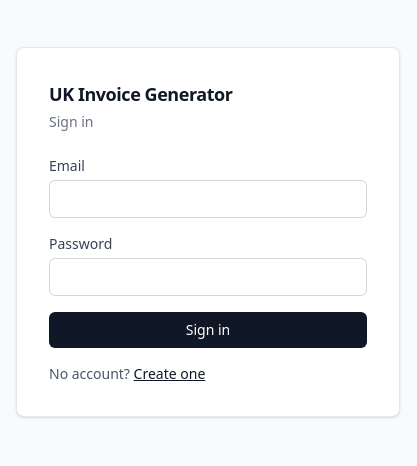
Test case: login form › shows the server message when credentials are rejected
Type "nobody@example.com" into the field labelled "Email" at coordinates (208, 199), box [49,180,367,218]
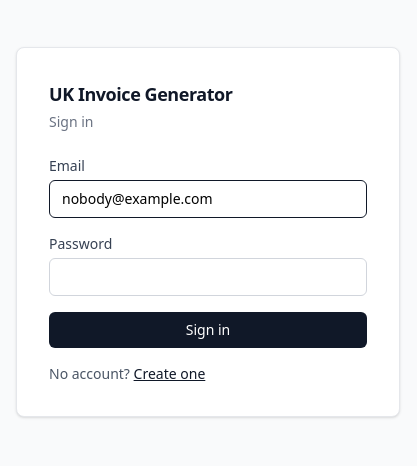
Type "wrongpassword" into the password field labelled "Password" at coordinates (208, 277), box [49,258,367,296]
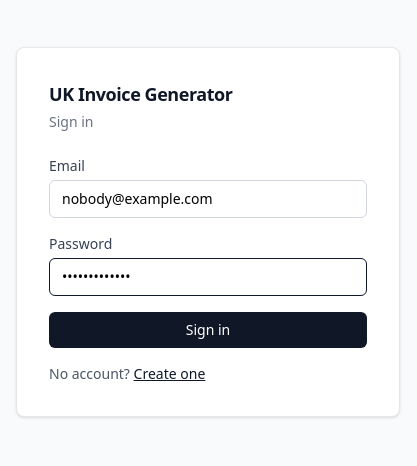
Click the button "Sign in" at coordinates (208, 330), box [49,312,367,348]
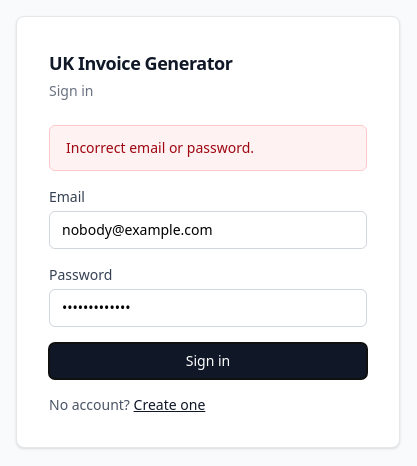
expect the text "Incorrect email or password." is shown: met, box [49,125,367,171]
